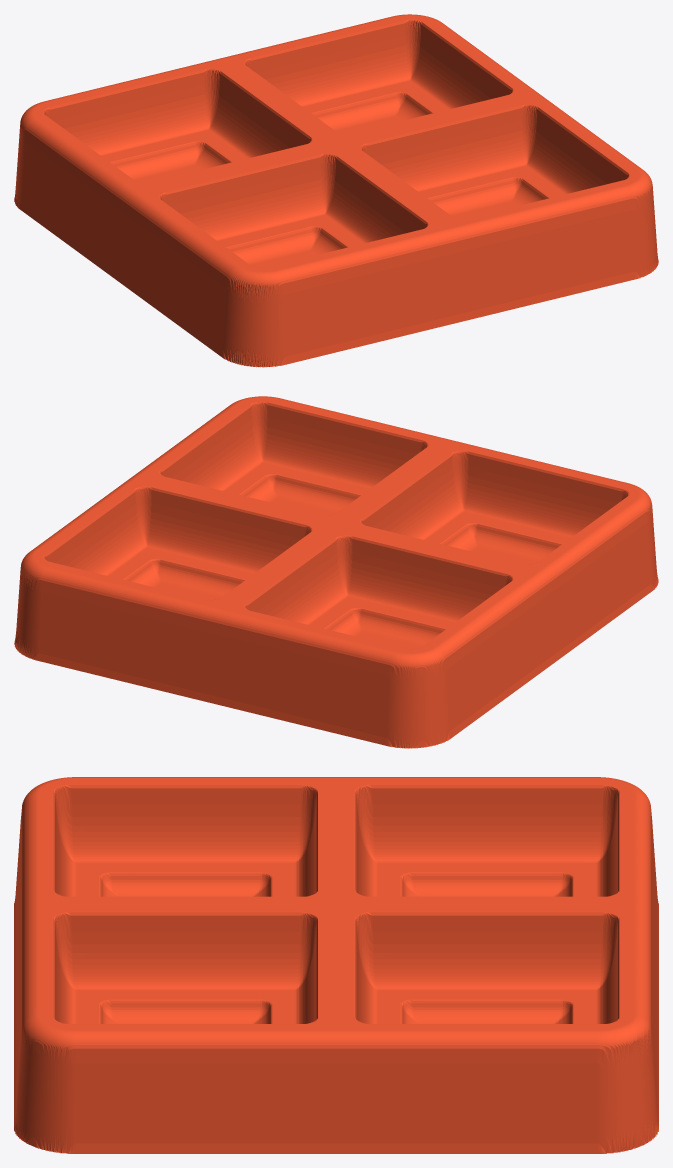
File: mold.glb
The picture shows the model from 3 angles, top to bottom: view 1: azimuth 30°, elevation 25°; view 2: azimuth 150°, elevation 25°; view 3: azimuth 270°, elevation 25°; orthographic projection. The views are drawn at different scales.
Parts seen in each view (by area): view 1: geometry_0; view 2: geometry_0; view 3: geometry_0.
Part boxes in pixels (x1,y1,x2,y2): geometry_0: (14,14,658,367); geometry_0: (14,396,658,748); geometry_0: (14,777,658,1153).
Bounding box in the file's own units: 0.0942 × 0.0182 × 0.0942.
